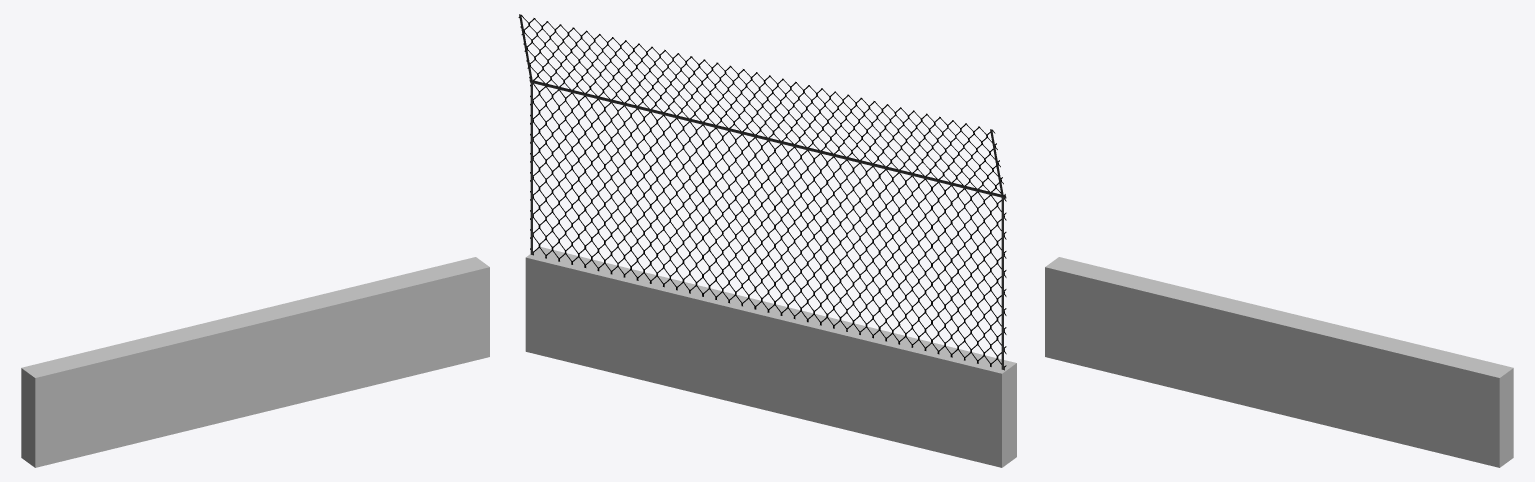
The model's file is fence3.fbx.
3 views of the same model, side by side, from view 1: azimuth 30°, elevation 25°; view 2: azimuth 150°, elevation 25°; view 3: azimuth 330°, elevation 25° (orthographic). The views are drawn at different scales.
Parts seen in each view (by area): view 1: pCube3; view 2: pCube3; view 3: pCube3.
Boxes of the visible parts, x1,y1,x2,y2 form: pCube3: (21, 257, 489, 467); pCube3: (518, 14, 1016, 467); pCube3: (1045, 257, 1513, 467).
Bounding box in the file's own units: 10.61 × 7.3 × 0.8557.
